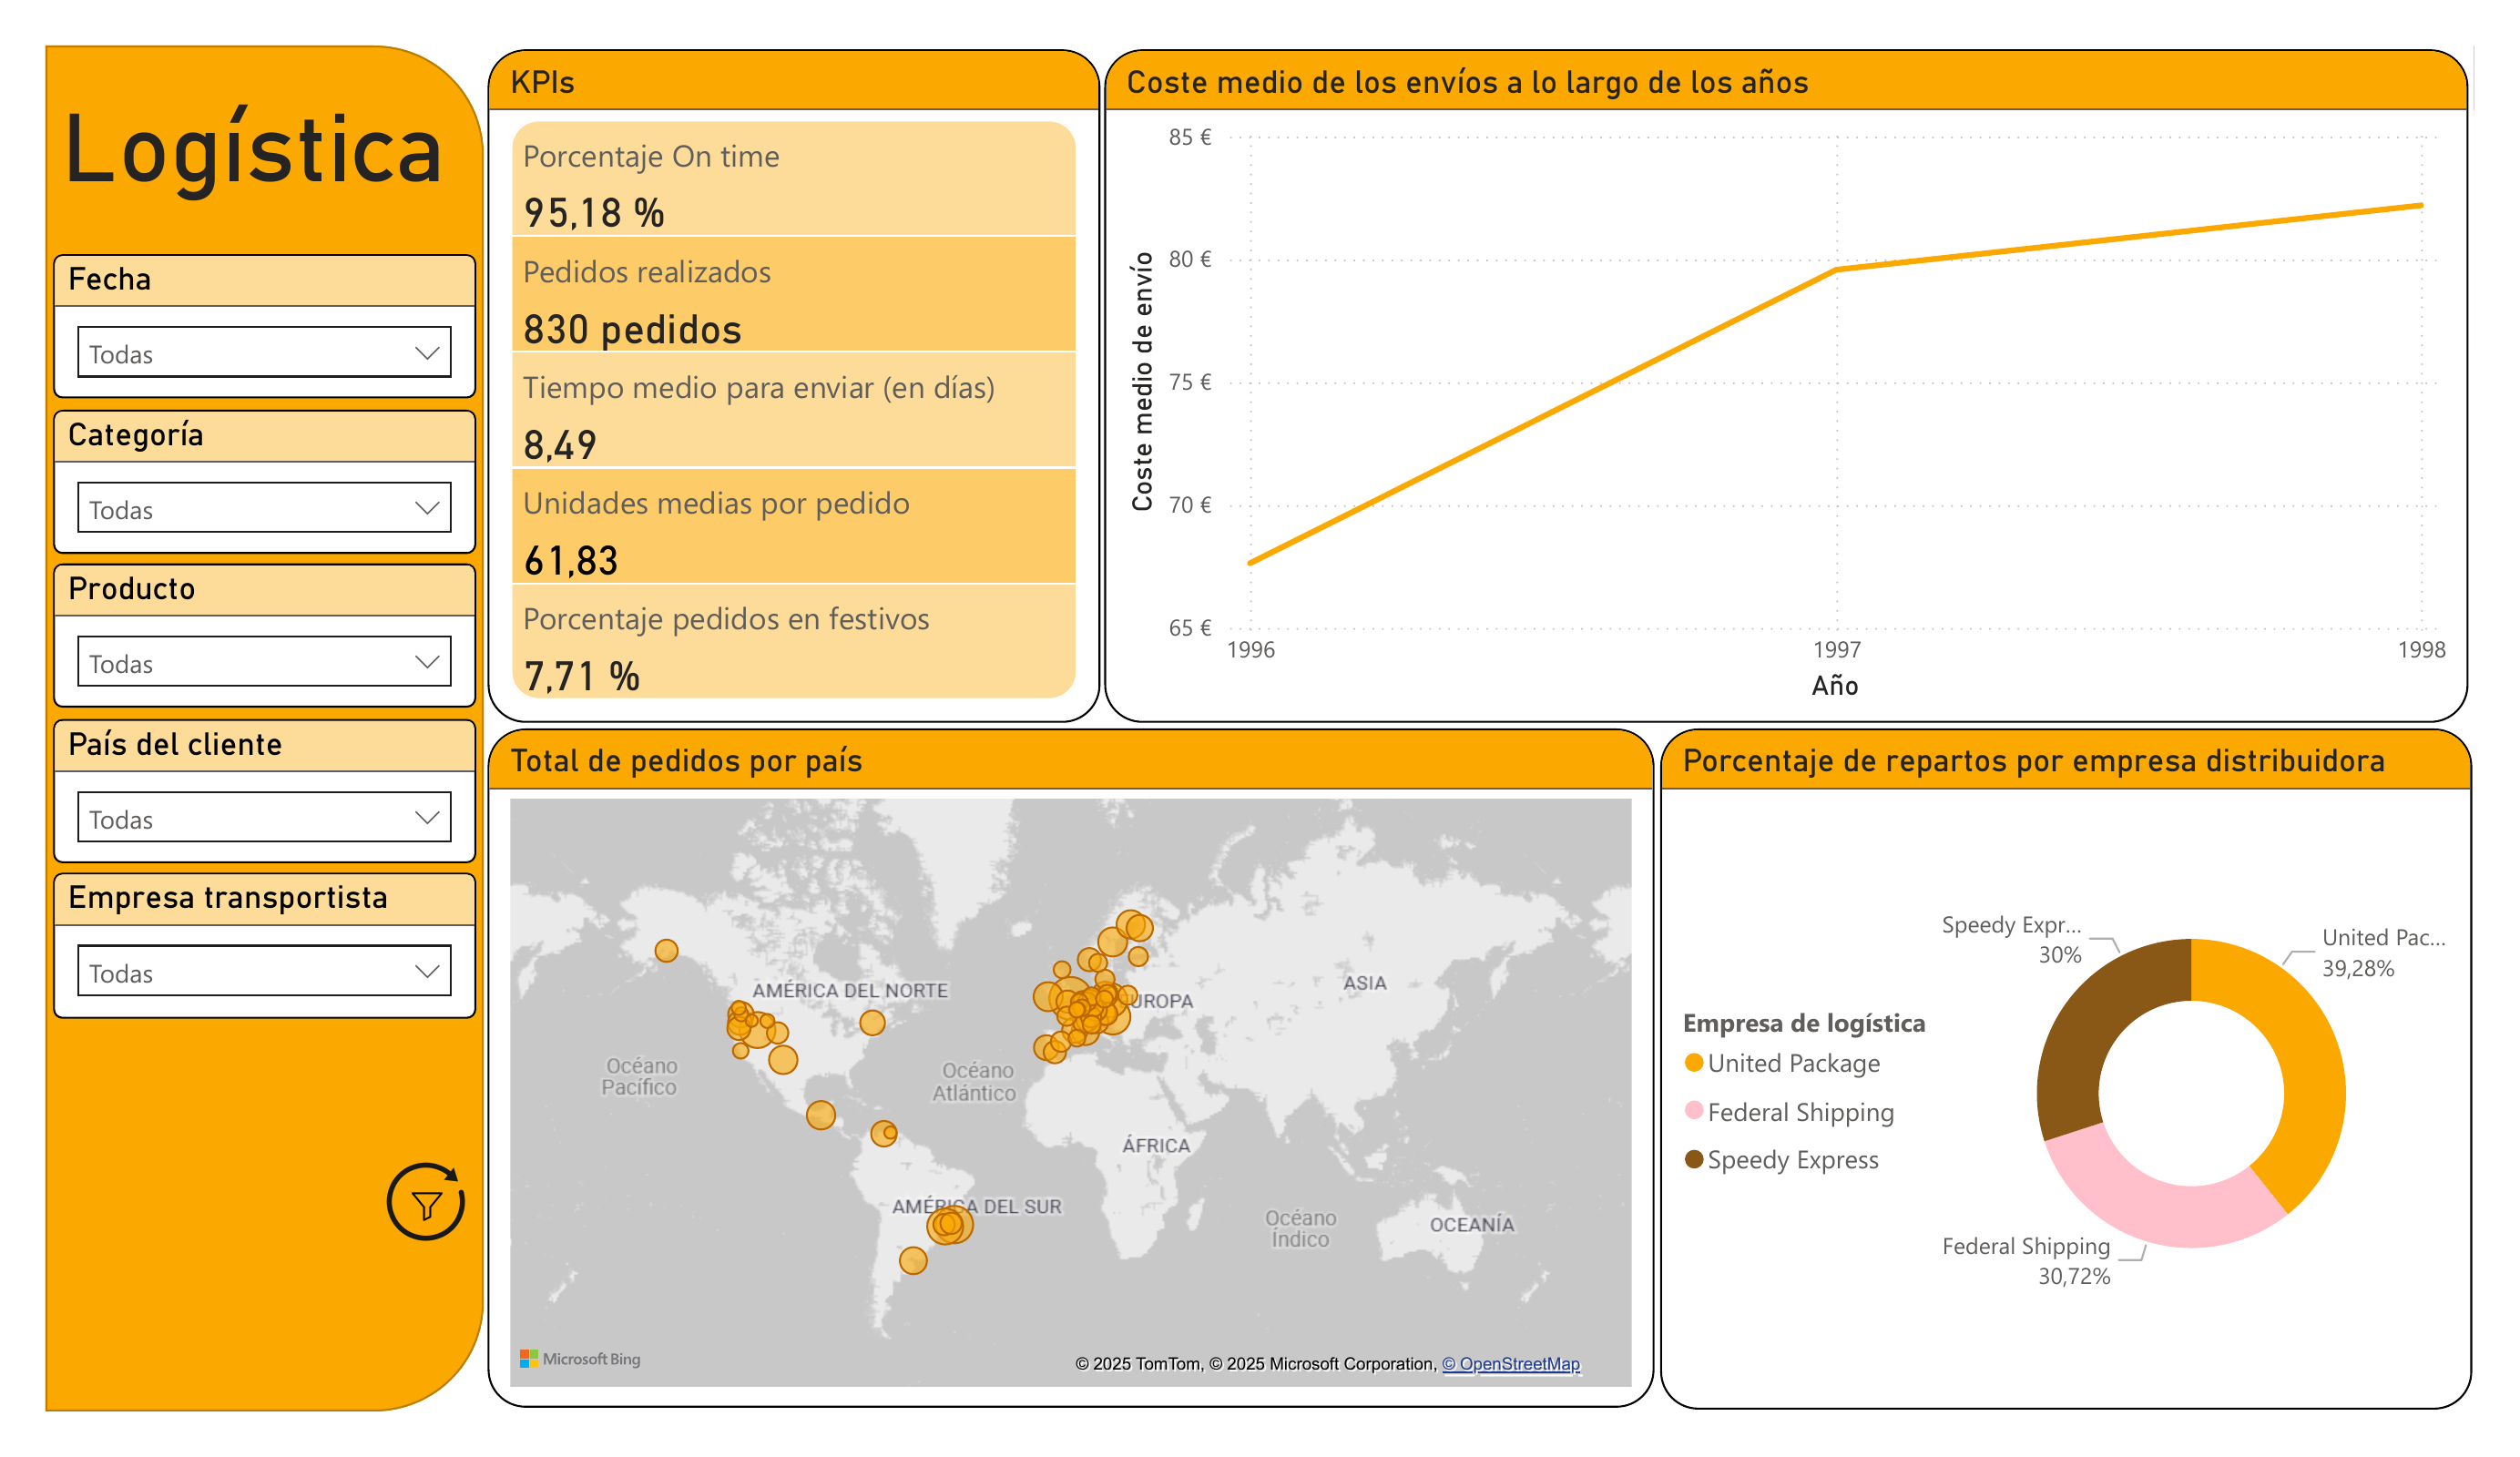

This screenshot's page, from the dashboard's own definition file:
{"tool":"powerbi","page":{"name":"Logística","canvas":[1280,720],"ordinal":1},"visuals":[{"type":"lineChart","title":"Coste medio de los envíos a lo largo de los años","fields":{"Y":["Avg(Orders.Freight)"],"Category":["Calendar.Date.Variación.Jerarquía de fechas.Año","Calendar.Date.Variación.Jerarquía de fechas.Trimestre","Calendar.Date.Variación.Jerarquía de fechas.Mes","Calendar.Date.Variación.Jerarquía de fechas.Día"]},"box":[558.3,2.5,719,354.6],"z":0},{"type":"cardVisual","title":"KPIs","fields":{"Data":["Medidas Dashboard Logístico.Porcentaje On time","Medidas Dashboard Ventas.NumeroPedidos","Medidas Dashboard Logístico.Tiempo Medio de Envio","Medidas Dashboard Logístico.Tamaño pedido medio en unidades","Medidas Festivos.Porcentaje pedidos en festivos"]},"box":[233.1,2.5,322.7,354.6],"z":1000},{"type":"shape","box":[0,0,230.7,720.2],"z":2000},{"type":"slicer","title":"Fecha","fields":{"Values":["Calendar.Año Jerarquía.Año","Calendar.Año Jerarquía.Trimestre","Calendar.Año Jerarquía.Mes","Calendar.Año Jerarquía.Dia Mes y Semana"]},"box":[3.7,109.9,223.3,76.1],"z":3000},{"type":"textbox","box":[4.3,2.9,225.5,101.3],"z":4000},{"type":"slicer","title":"Categoría","fields":{"Values":["Categories.CategoryName"]},"box":[3.8,191.5,223.2,76],"z":5000},{"type":"slicer","title":"Producto","fields":{"Values":["Products.ProductName"]},"box":[3.6,273.1,223.2,76.4],"z":6000},{"type":"slicer","title":"País del cliente","fields":{"Values":["Customers.Country"]},"box":[3.8,355.1,223,76.2],"z":7000},{"type":"image","box":[187.5,597.8,26.2,27.5],"z":8000},{"type":"image","box":[171.2,575.9,58.8,66.2],"z":9000},{"type":"donutChart","title":"Porcentaje de repartos por empresa distribuidora","fields":{"Y":["Count(Order_Details_Extended.OrderID)"],"Category":["Shippers.CompanyName"]},"box":[850.9,360.2,427.8,358.6],"z":10000},{"type":"slicer","title":"Empresa transportista","fields":{"Values":["Shippers.CompanyName"]},"box":[3.8,436.2,223,76.2],"z":11000},{"type":"map","title":"Total de pedidos por país","fields":{"Category":["Orders.ShipCountry","Customers.City"],"Size":["Count(Orders.OrderID)"]},"box":[233.1,359.5,614.7,358.3],"z":12000}]}

Visuals, with their boxes in screenshot pixels (x1, y1, x2, y2):
"Coste medio de los envíos a lo largo de los años" lineChart: l=1105, t=50, r=2469, b=723
"KPIs" cardVisual: l=488, t=50, r=1100, b=723
shape: l=46, t=46, r=484, b=1411
"Fecha" slicer: l=53, t=254, r=476, b=399
textbox: l=54, t=51, r=482, b=243
"Categoría" slicer: l=53, t=409, r=476, b=553
"Producto" slicer: l=53, t=564, r=476, b=708
"País del cliente" slicer: l=53, t=719, r=476, b=864
image: l=402, t=1179, r=451, b=1232
image: l=371, t=1138, r=482, b=1264
"Porcentaje de repartos por empresa distribuidora" donutChart: l=1660, t=728, r=2472, b=1410
"Empresa transportista" slicer: l=53, t=873, r=476, b=1018
"Total de pedidos por país" map: l=488, t=728, r=1654, b=1407
